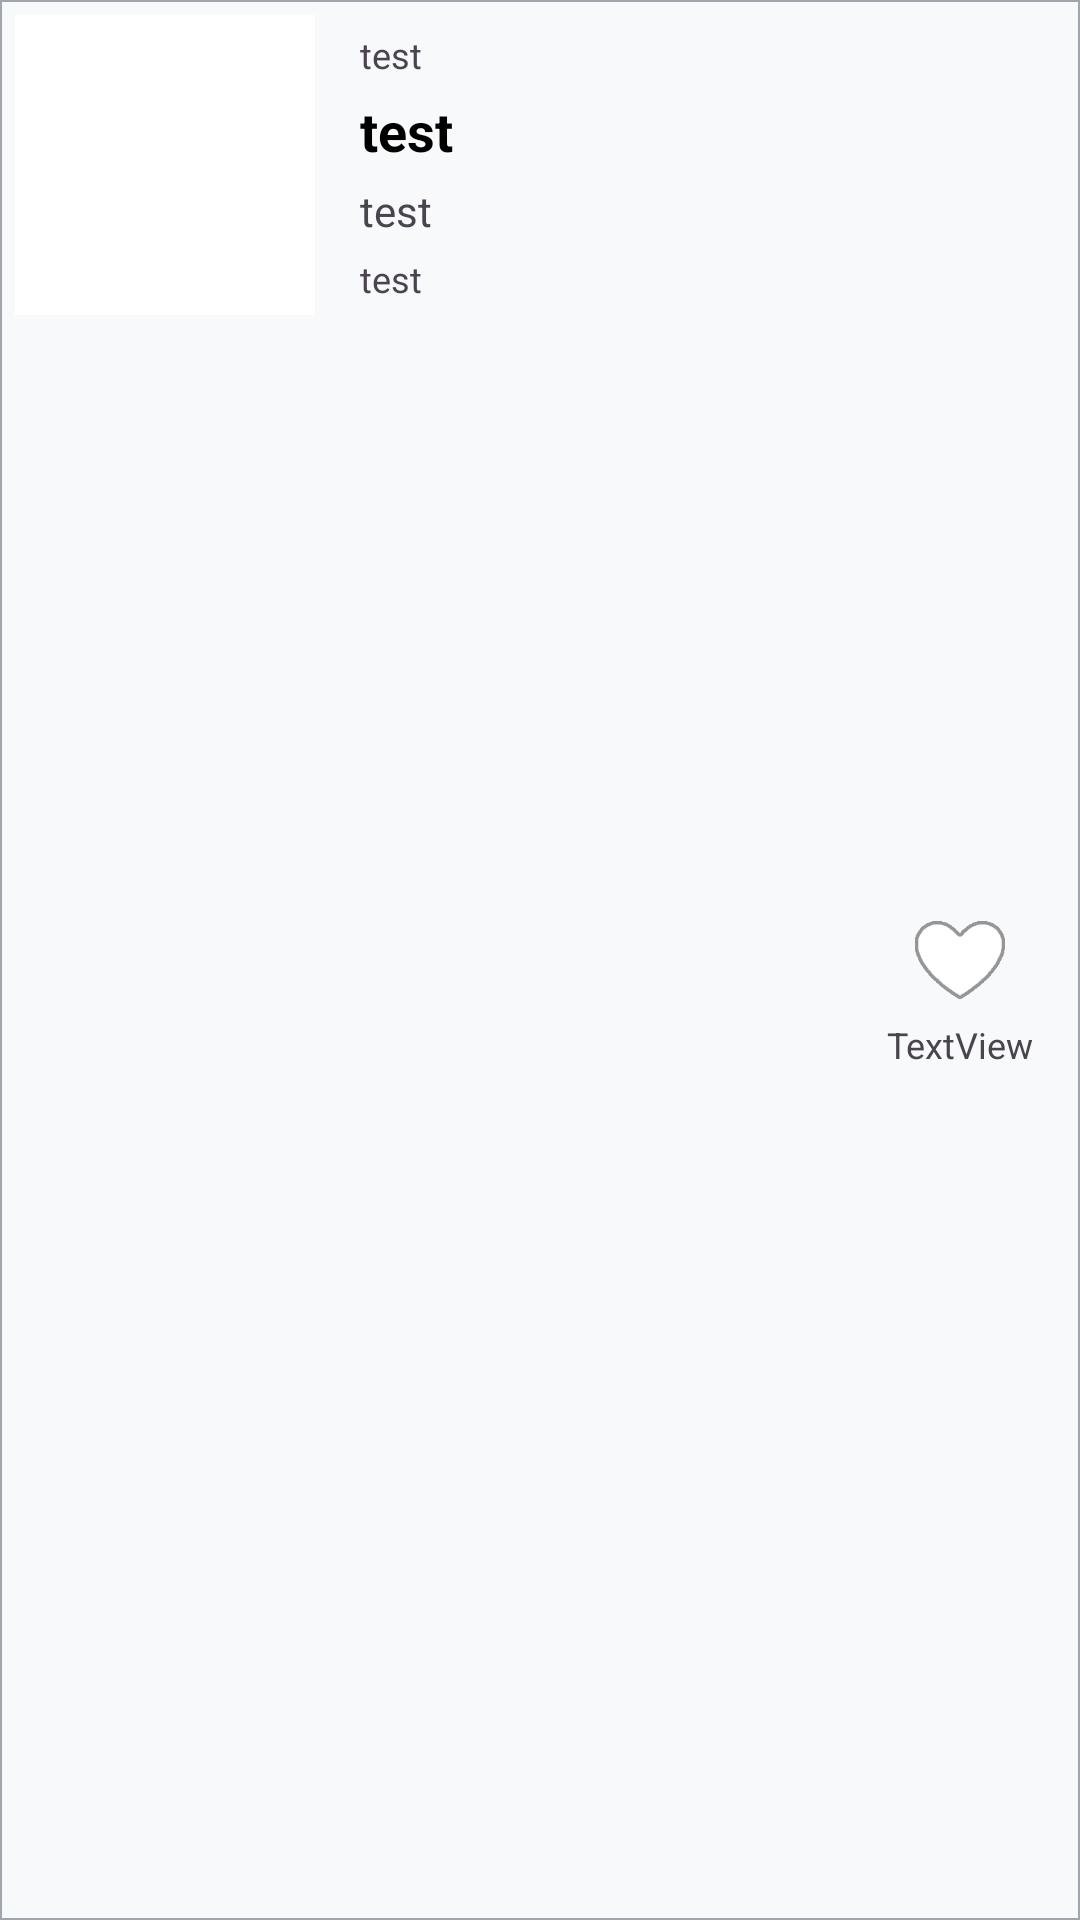

Icon click points for this 1080 x 1920 phone screenshot, format point (x, y):
Like: point (960, 960)
